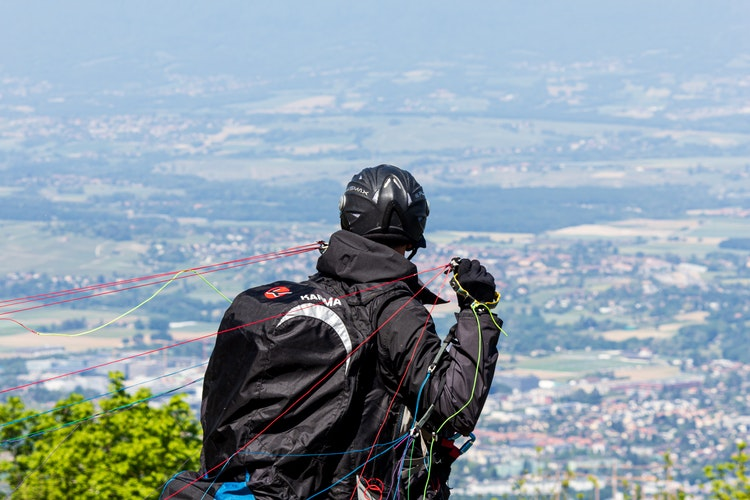helmet: (333, 166, 429, 240)
